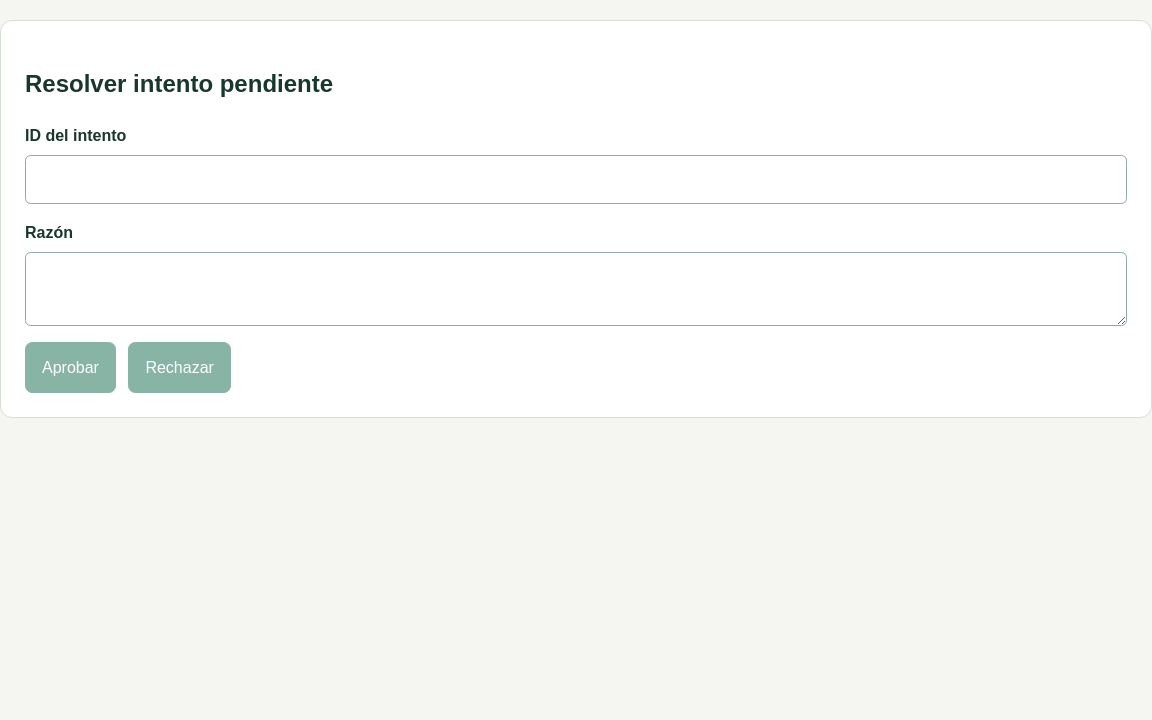
Test: revisión responsable › envía decisión y muestra el estado confirmado por servidor
In the field labelled "ID del intento": point(576, 179) top-left (25, 155), bottom-right (1127, 204), type "11111111-1111-4111-8111-111111111112"
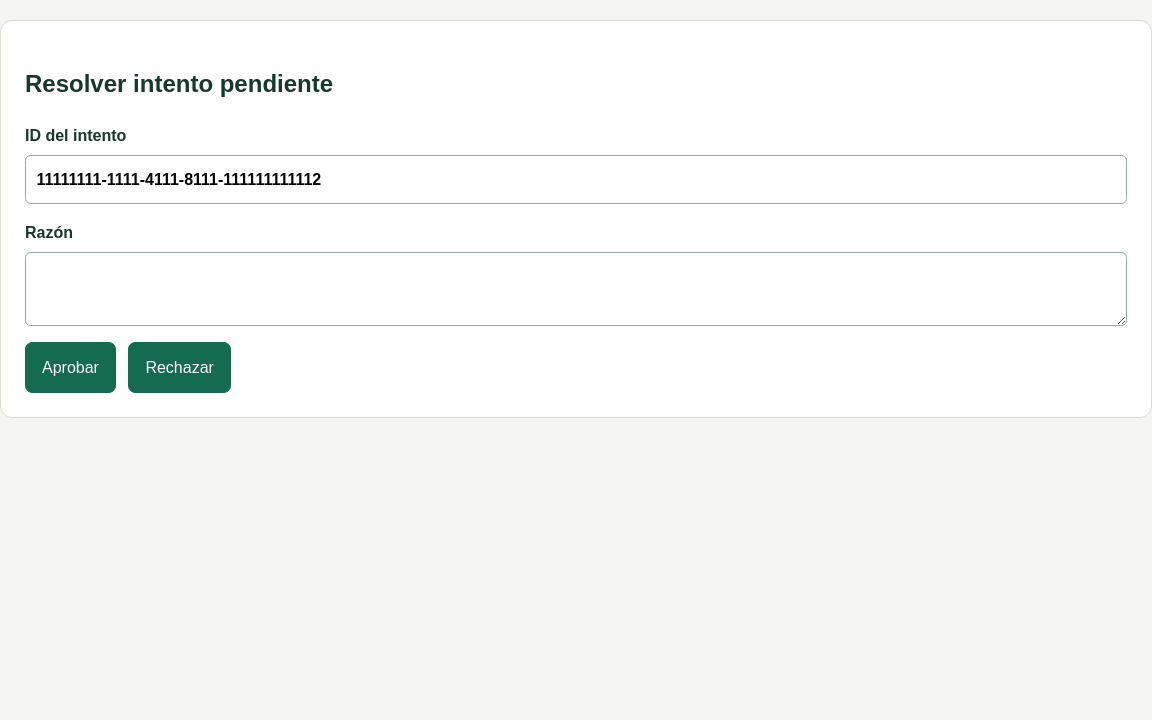
In the text box named "Razón de revisión": point(576, 288) top-left (25, 252), bottom-right (1127, 326), type "Medición ficticia insuficiente"
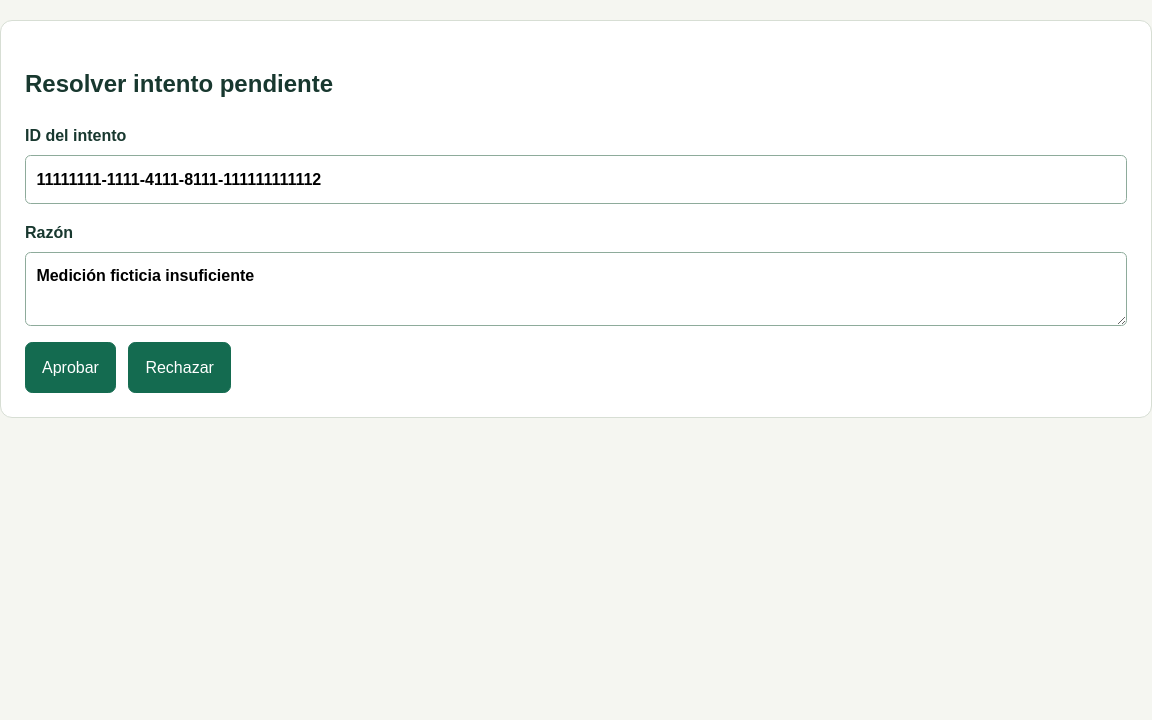
Click the button "Rechazar": point(180, 367) top-left (128, 342), bottom-right (231, 393)
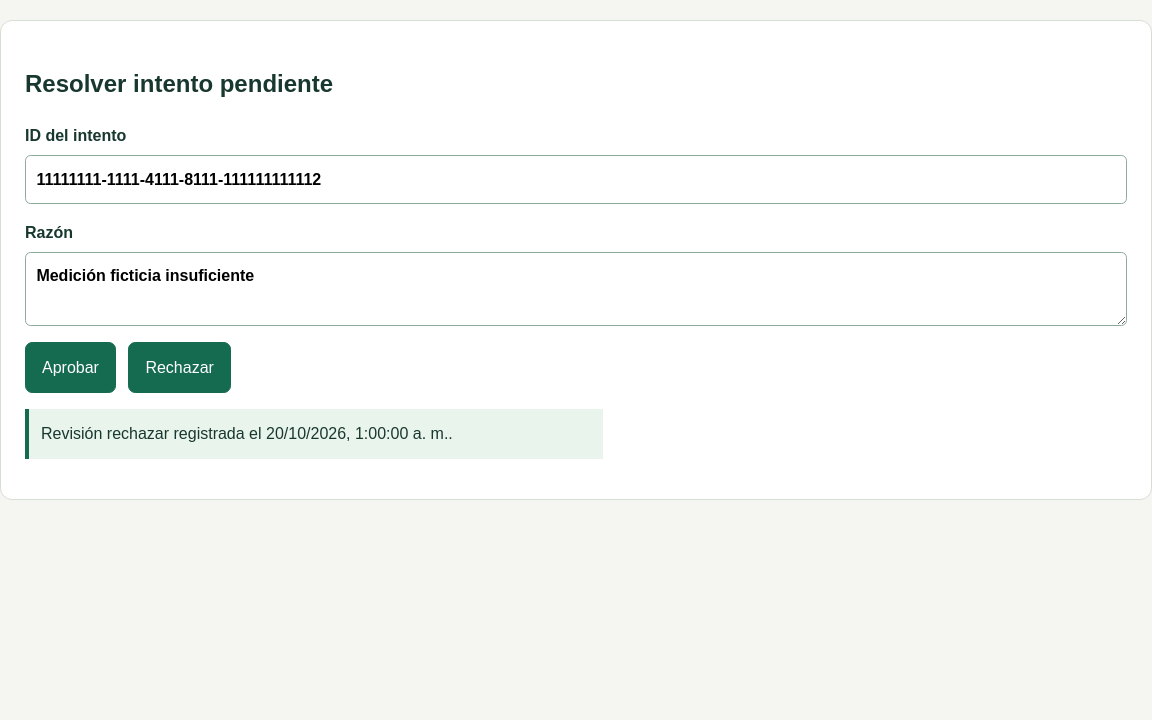
Expected: the message shows "rechazar", top-left (107, 425), bottom-right (169, 442)
